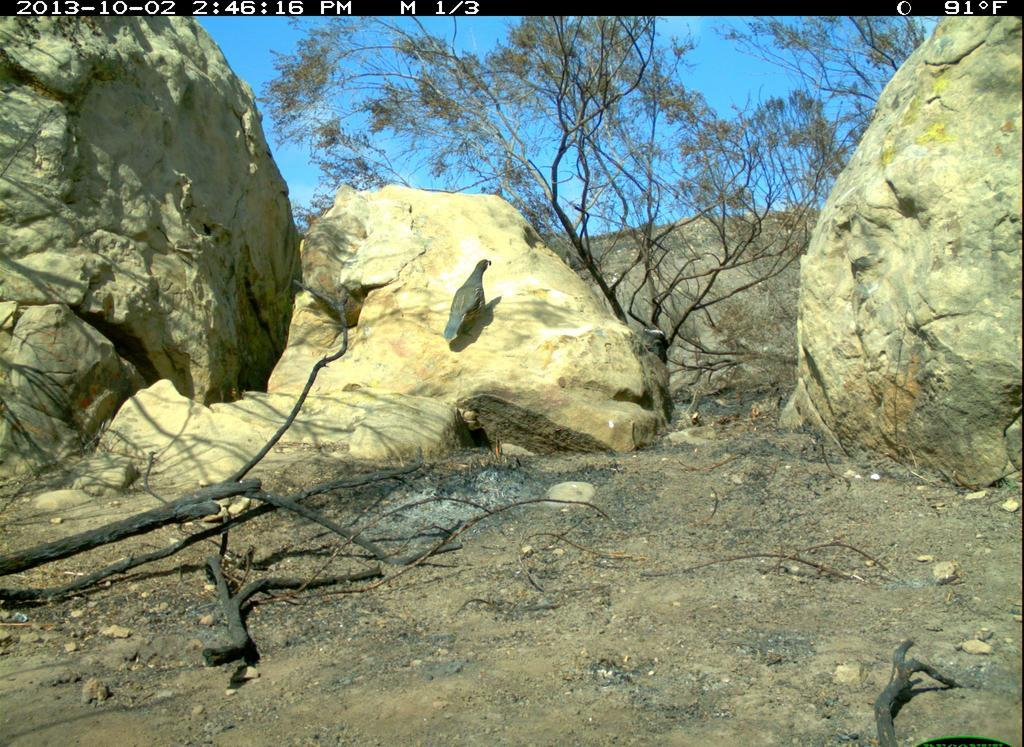bird: (438, 255, 509, 356)
